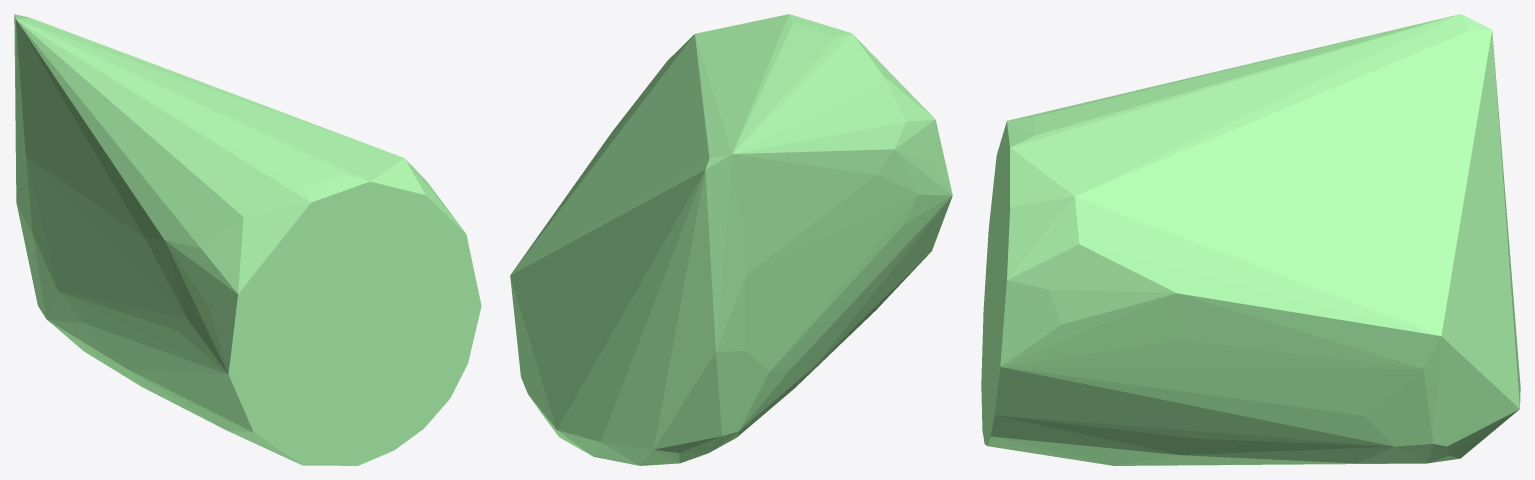
File: linkhou_LR4_R560_link4_respondable_coll_5.dae
The picture shows the model from 3 angles, left to right: view 1: azimuth 30°, elevation 25°; view 2: azimuth 150°, elevation 25°; view 3: azimuth 270°, elevation 25°; orthographic projection. The views are drawn at different scales.
Visible parts, largest first — view 1: Node_00000209DB3AC2E0; view 2: Node_00000209DB3AC2E0; view 3: Node_00000209DB3AC2E0.
Part boxes in pixels (left/top/right/bottom): Node_00000209DB3AC2E0: left=14, top=14, right=481, bottom=465; Node_00000209DB3AC2E0: left=510, top=14, right=952, bottom=465; Node_00000209DB3AC2E0: left=981, top=14, right=1520, bottom=465.
Bounding box in the file's own units: 0.0968 × 0.1157 × 0.1565.
